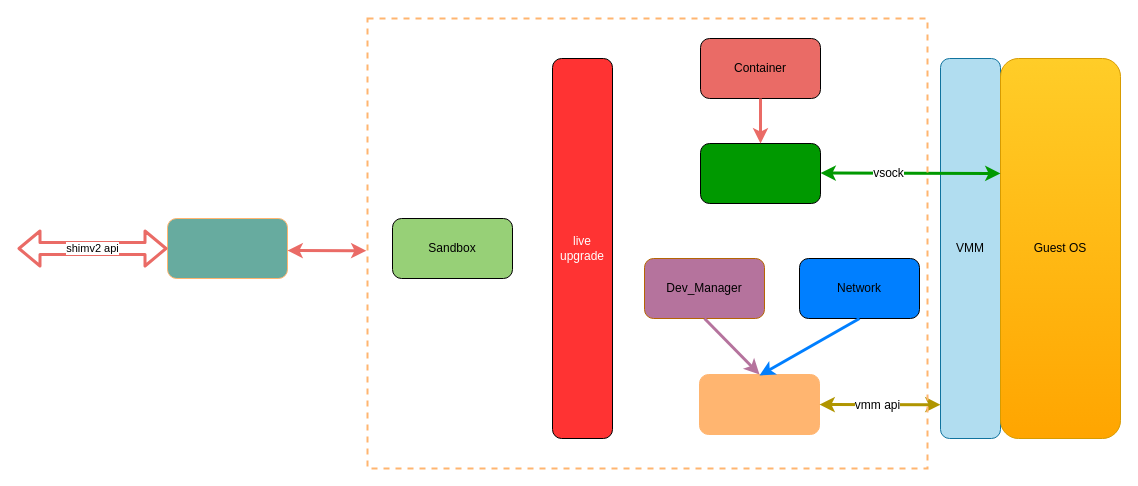
Some shapes in this 1138 by 486 pixel diagram are drawn without their labels. The shapes that lost their labels are listed below. From the top down, each one's centre as x and y in pixels, then its label:
At (760,173): "Agent".
At (227,248): "shimv2".
At (759,404): "Hypervisor".
